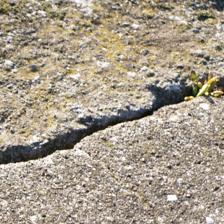Crack: (3, 44, 190, 127)
